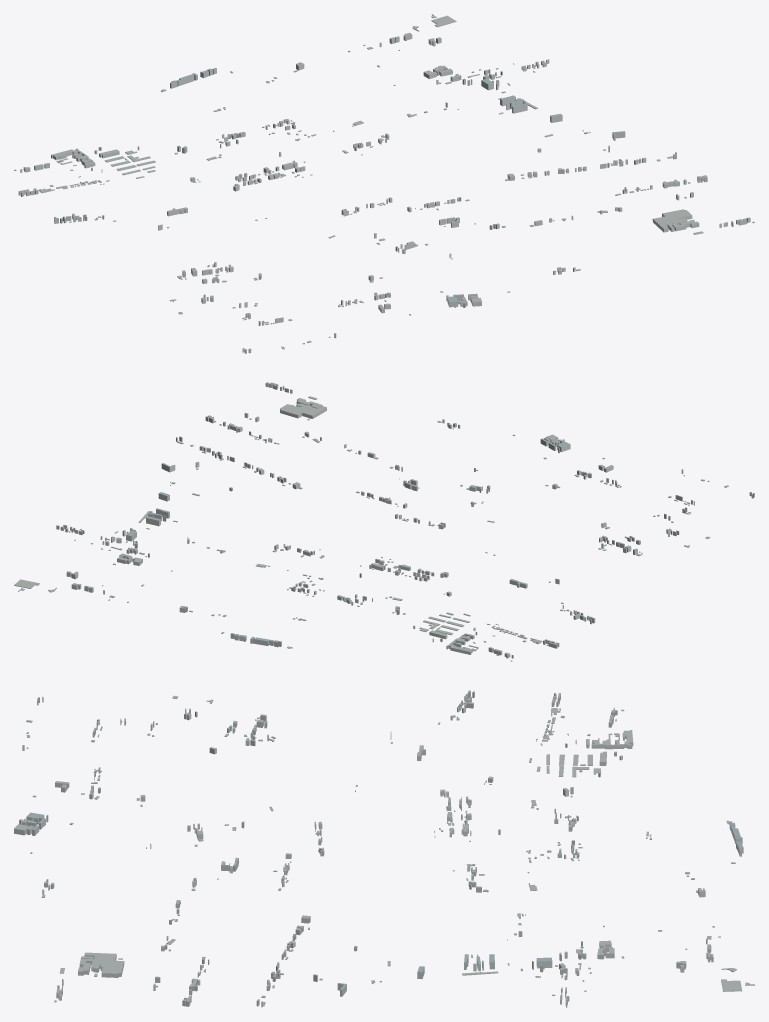
Rendered from far.glb.
3 views of the same model, one above another, from view 1: azimuth 30°, elevation 25°; view 2: azimuth 150°, elevation 25°; view 3: azimuth 270°, elevation 25° (orthographic). The views are drawn at different scales.
Bounding box in the file's own units: 2094 × 24 × 2106.
